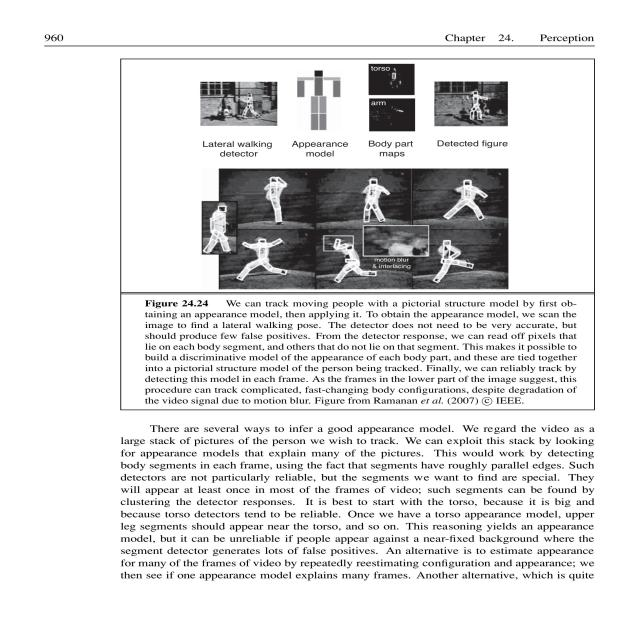diagram: (121, 57, 617, 414)
